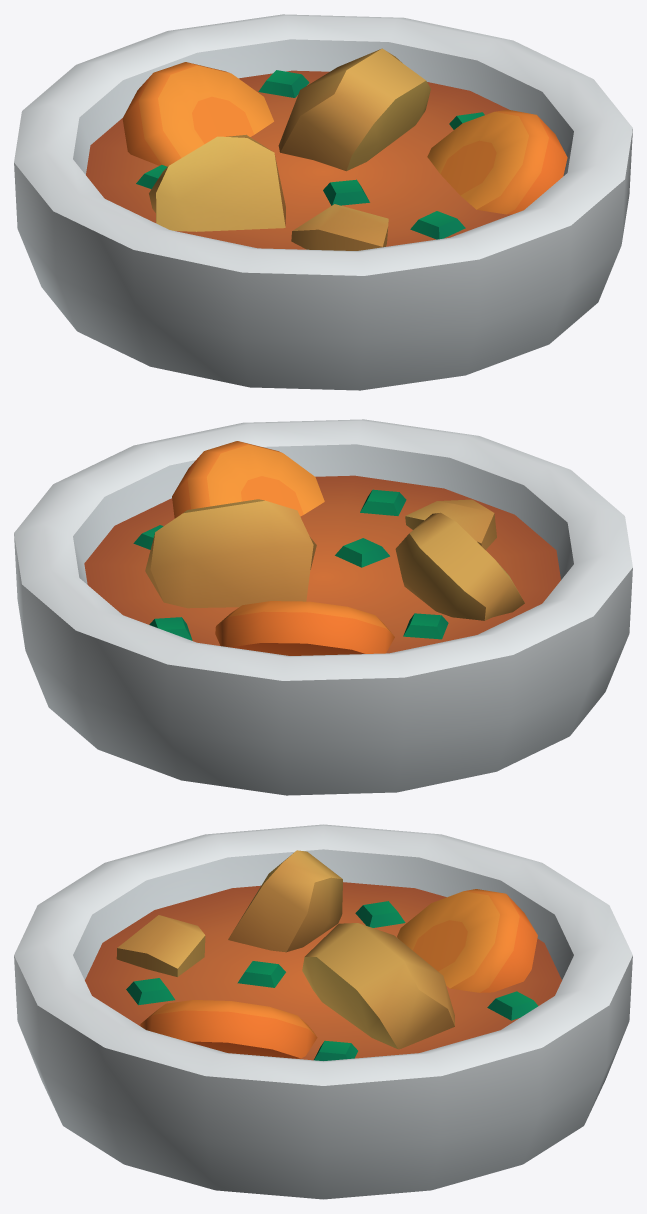
File: stew.glb
3 views of the same model, one above another, from view 1: azimuth 30°, elevation 25°; view 2: azimuth 150°, elevation 25°; view 3: azimuth 270°, elevation 25° (orthographic).
Parts seen in each view (by area): view 1: food_stew; view 2: food_stew; view 3: food_stew.
Boxes of the visible parts, x1,y1,x2,y2 form: food_stew: (14,14,632,390); food_stew: (14,419,632,795); food_stew: (14,824,632,1199).
Size of the model in its own units: 0.95 by 0.3697 by 0.95.
1 material, 1 textured.
